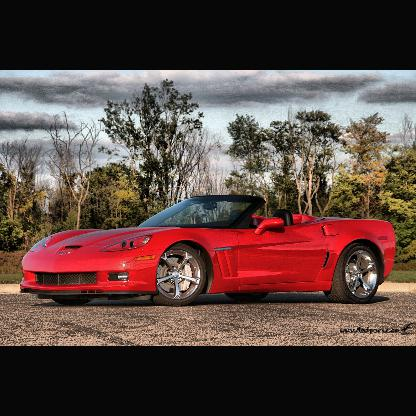Chevrolet Corvette Convertible 2012: (18, 185, 399, 310)
